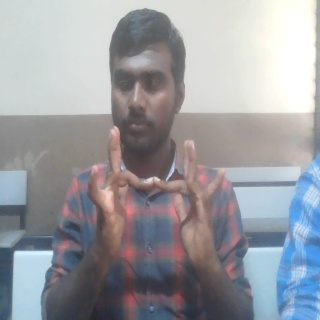Internet: (84, 124, 227, 271)
